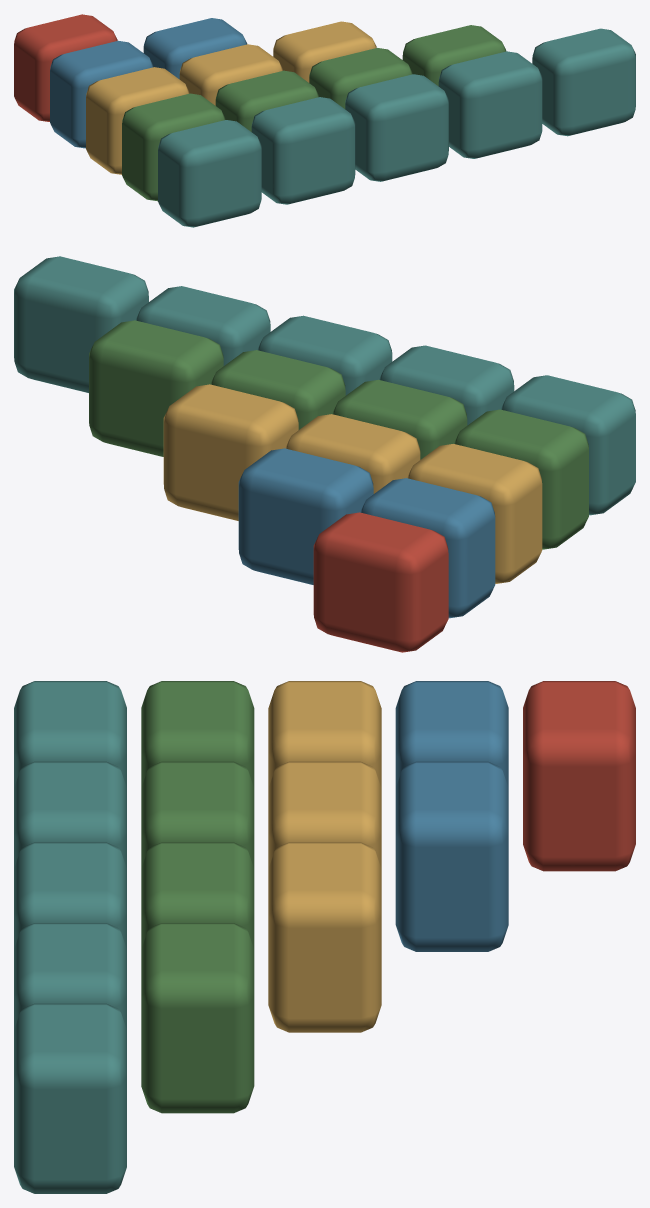
File: wp-barres-de-numeration.glb
3 views of the same model, one above another, from view 1: azimuth 30°, elevation 25°; view 2: azimuth 150°, elevation 25°; view 3: azimuth 270°, elevation 25° (orthographic). The views are drawn at different scales.
Visible parts, largest first — view 1: wp-barres-de-numeration; view 2: wp-barres-de-numeration; view 3: wp-barres-de-numeration.
Boxes of the visible parts, x1=… form: wp-barres-de-numeration: x1=14, y1=14, x2=635, y2=227; wp-barres-de-numeration: x1=14, y1=256, x2=635, y2=652; wp-barres-de-numeration: x1=14, y1=681, x2=635, y2=1193.
Size of the model in its own units: 0.6 by 0.1 by 0.4.
